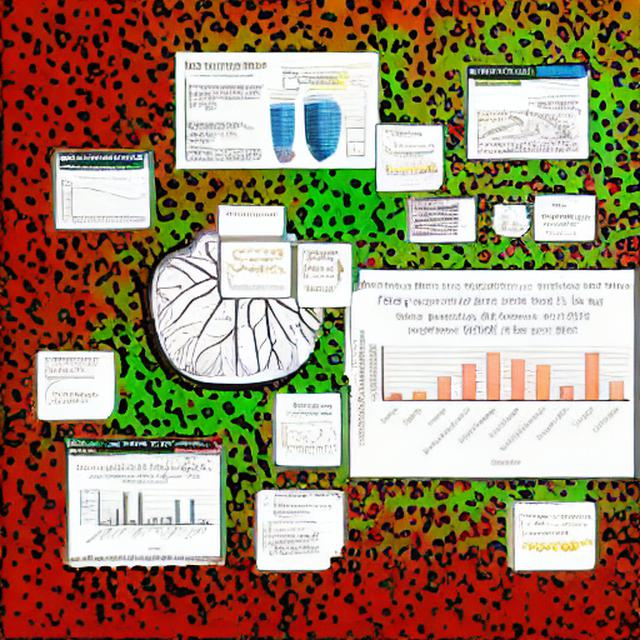Graph: (355, 308, 633, 474), (74, 472, 214, 553), (60, 175, 144, 227), (277, 419, 337, 460), (222, 257, 287, 294), (379, 152, 440, 186)
